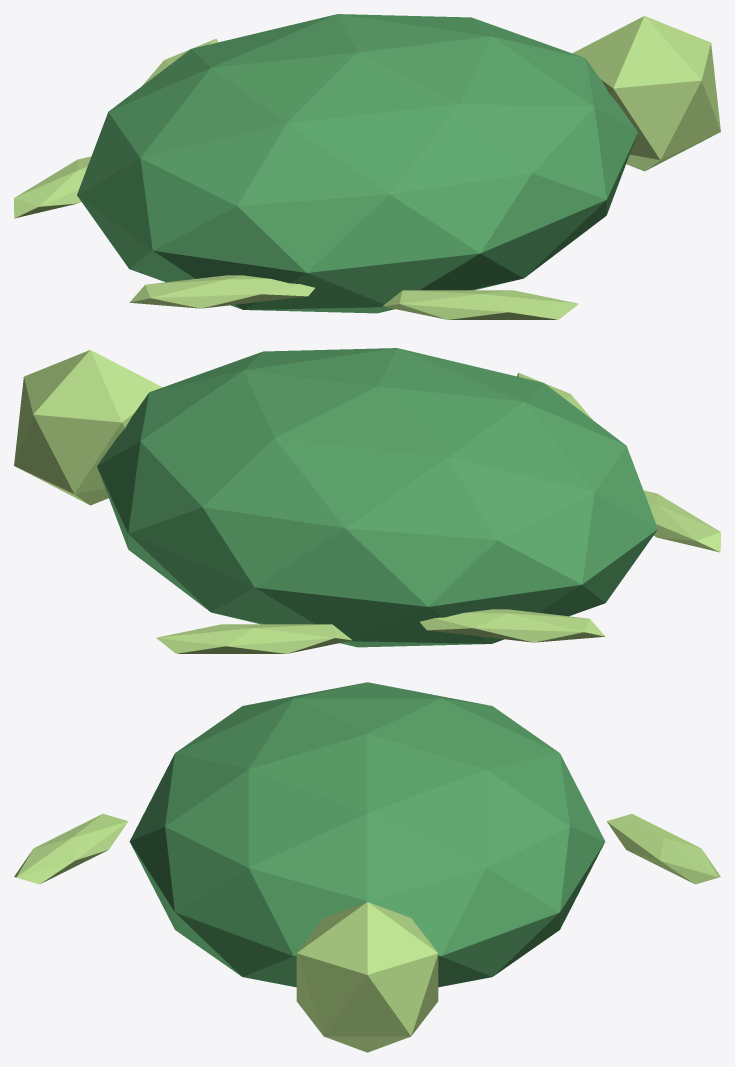
File: rua.glb
The picture shows the model from 3 angles, top to bottom: view 1: azimuth 30°, elevation 25°; view 2: azimuth 150°, elevation 25°; view 3: azimuth 270°, elevation 25°; orthographic projection. The views are drawn at different scales.
Parts seen in each view (by area): view 1: rua; view 2: rua; view 3: rua.
Boxes of the visible parts, x1=… form: rua: x1=14, y1=14, x2=720, y2=319; rua: x1=14, y1=348, x2=720, y2=653; rua: x1=14, y1=682, x2=720, y2=1052.
Size of the model in its own units: 3.01 by 1 by 2.97.
